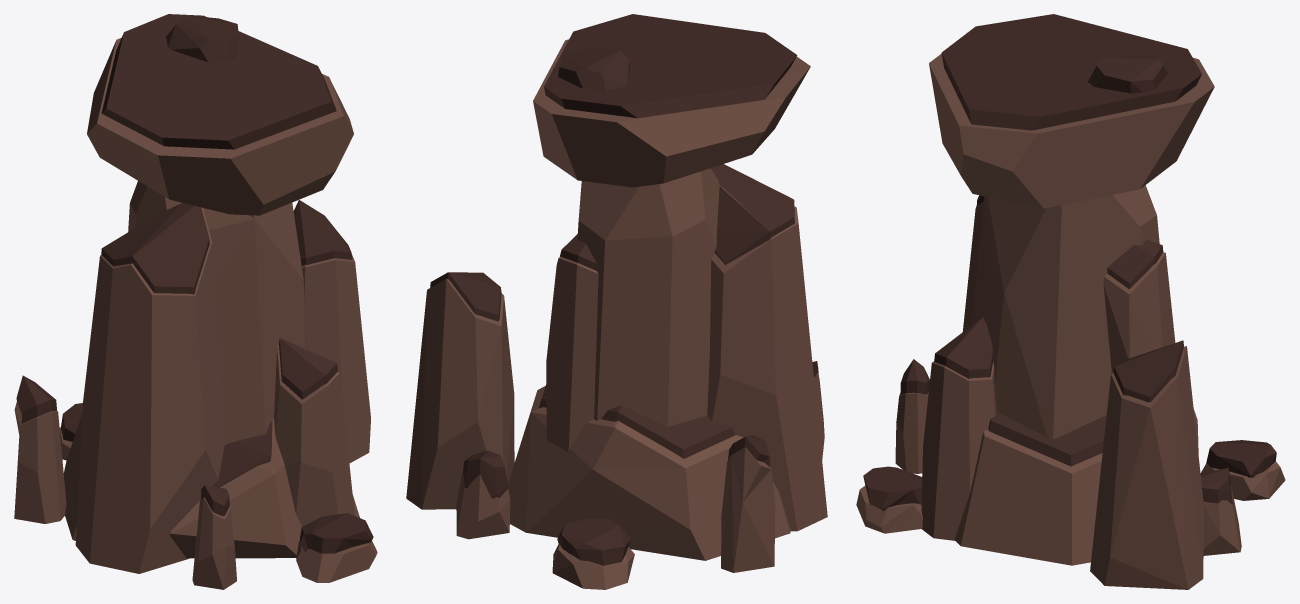
File: Brown_rock_011.fbx
The picture shows the model from 3 angles, left to right: view 1: azimuth 30°, elevation 25°; view 2: azimuth 150°, elevation 25°; view 3: azimuth 270°, elevation 25°; orthographic projection.
Parts seen in each view (by area): view 1: Brown_rock_011; view 2: Brown_rock_011; view 3: Brown_rock_011.
Boxes of the visible parts, box(x1,y1,x2,y2) form: Brown_rock_011: box(14, 14, 377, 589); Brown_rock_011: box(406, 14, 827, 589); Brown_rock_011: box(856, 14, 1285, 589).
Size of the model in its own units: 1155 by 1257 by 1462.
